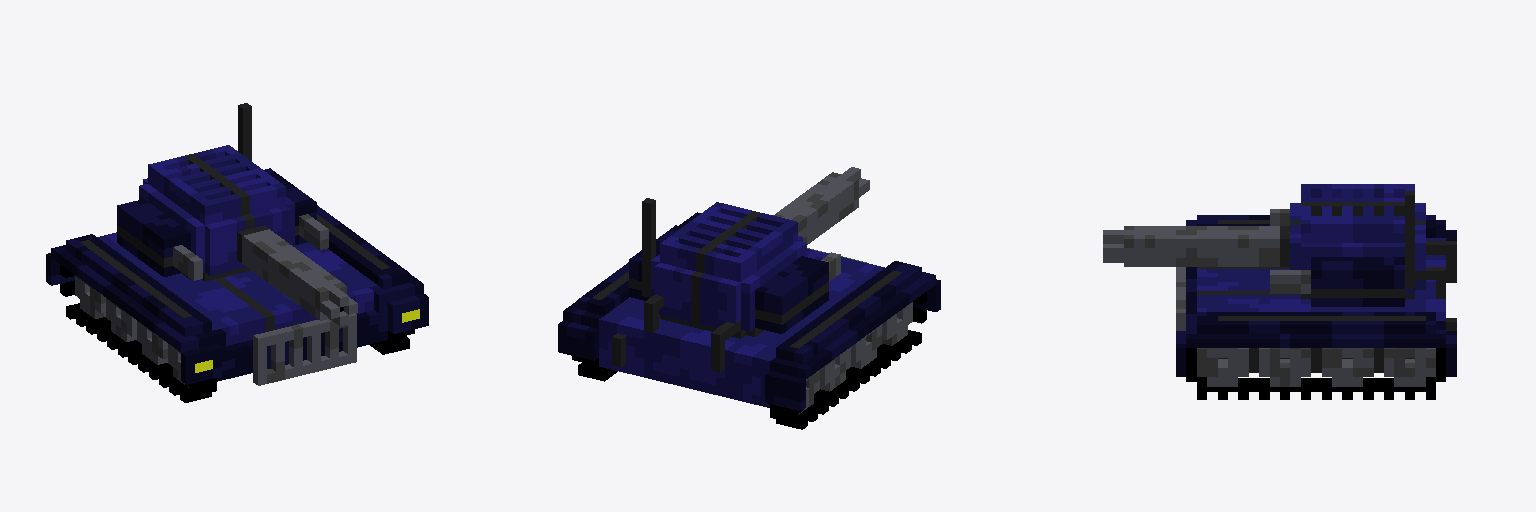
The picture shows the model from 3 angles: view 1: azimuth 30°, elevation 25°; view 2: azimuth 150°, elevation 25°; view 3: azimuth 270°, elevation 25°; orthographic projection.
Parts seen in each view (by area): view 1: object 1; view 2: object 1; view 3: object 1.
Part boxes in pixels (x1,y1,x2,y2): object 1: (46,103,428,402); object 1: (558,167,940,429); object 1: (1103,184,1456,399).
Size of the model in its own units: 2.7 by 1.9 by 3.4.
1 materials, 1 textured.